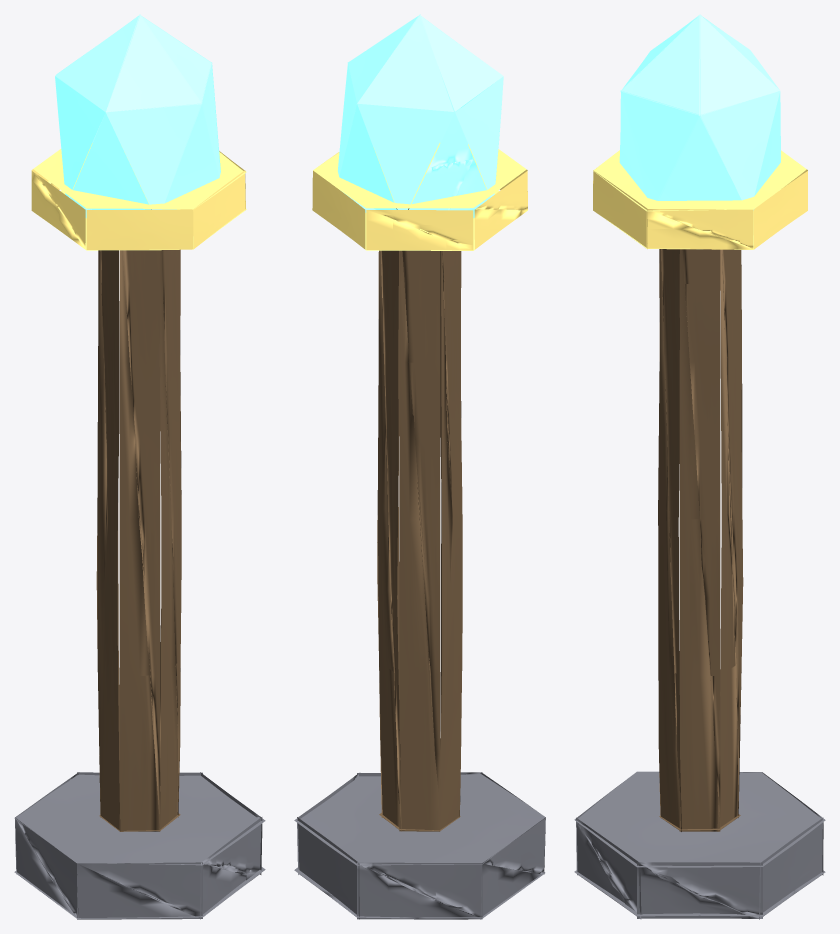
File: totem.glb
3 views of the same model, side by side, from view 1: azimuth 30°, elevation 25°; view 2: azimuth 150°, elevation 25°; view 3: azimuth 270°, elevation 25° (orthographic).
Visible parts, largest first — view 1: TotemFoot; view 2: TotemFoot; view 3: TotemFoot.
Part boxes in pixels (x1=…): TotemFoot: x1=14, y1=14, x2=265, y2=919; TotemFoot: x1=294, y1=14, x2=545, y2=919; TotemFoot: x1=574, y1=14, x2=825, y2=919.
Bounding box in the file's own units: 0.6935 × 3.03 × 0.8.
